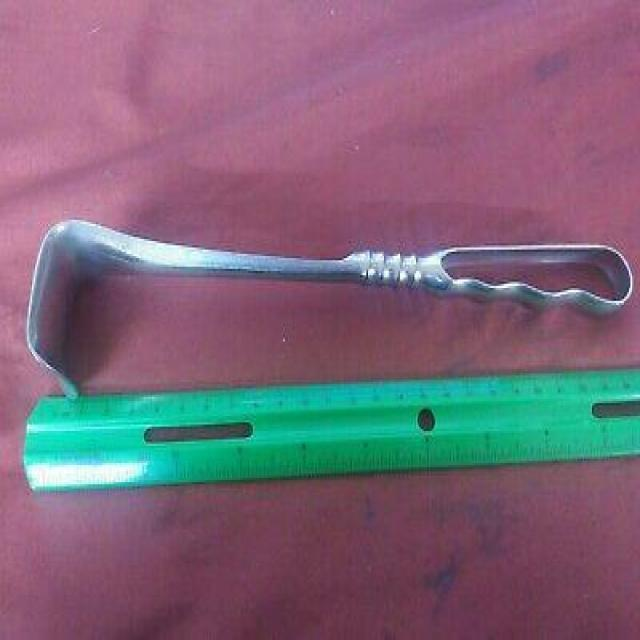Richardson: (22, 208, 640, 406)
